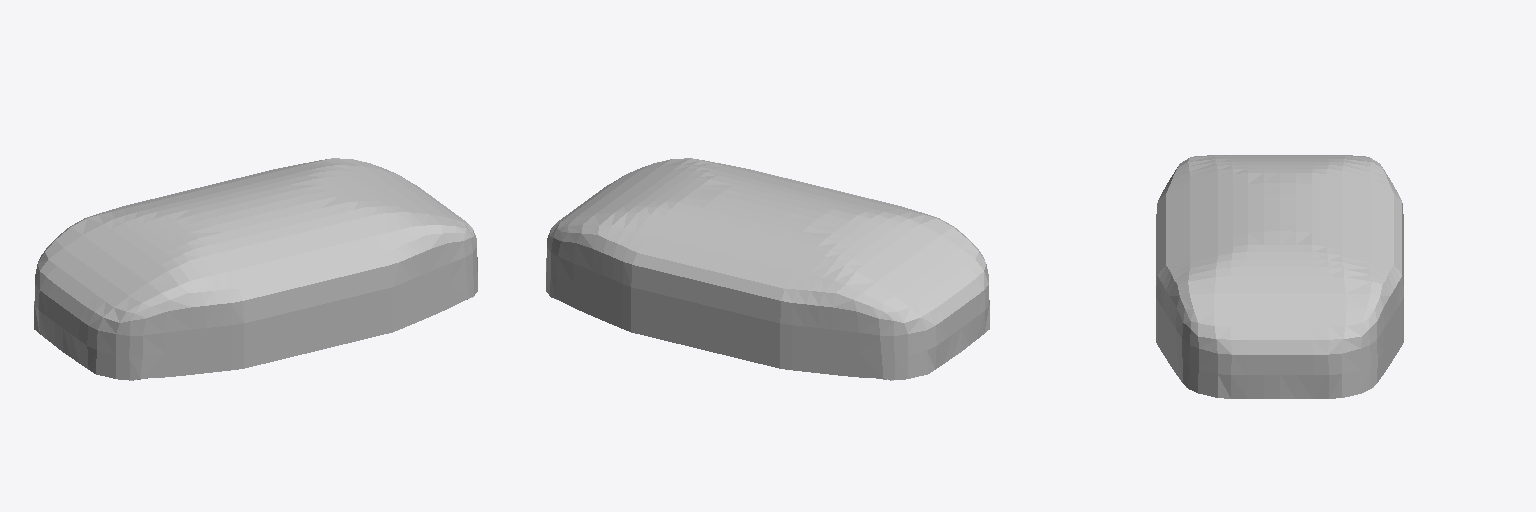
The model's file is robosim_sled_collision_clean.obj.
3 renders of one model, left to right at view 1: azimuth 30°, elevation 25°; view 2: azimuth 150°, elevation 25°; view 3: azimuth 270°, elevation 25°, orthographic.
Visible parts, largest first — view 1: Cube_Cube.007; view 2: Cube_Cube.007; view 3: Cube_Cube.007.
Boxes of the visible parts, <box> form: Cube_Cube.007: <box>34,158,477,380</box>; Cube_Cube.007: <box>546,158,989,380</box>; Cube_Cube.007: <box>1156,155,1403,398</box>.
Size of the model in its own units: 0.681 by 0.1653 by 0.38.